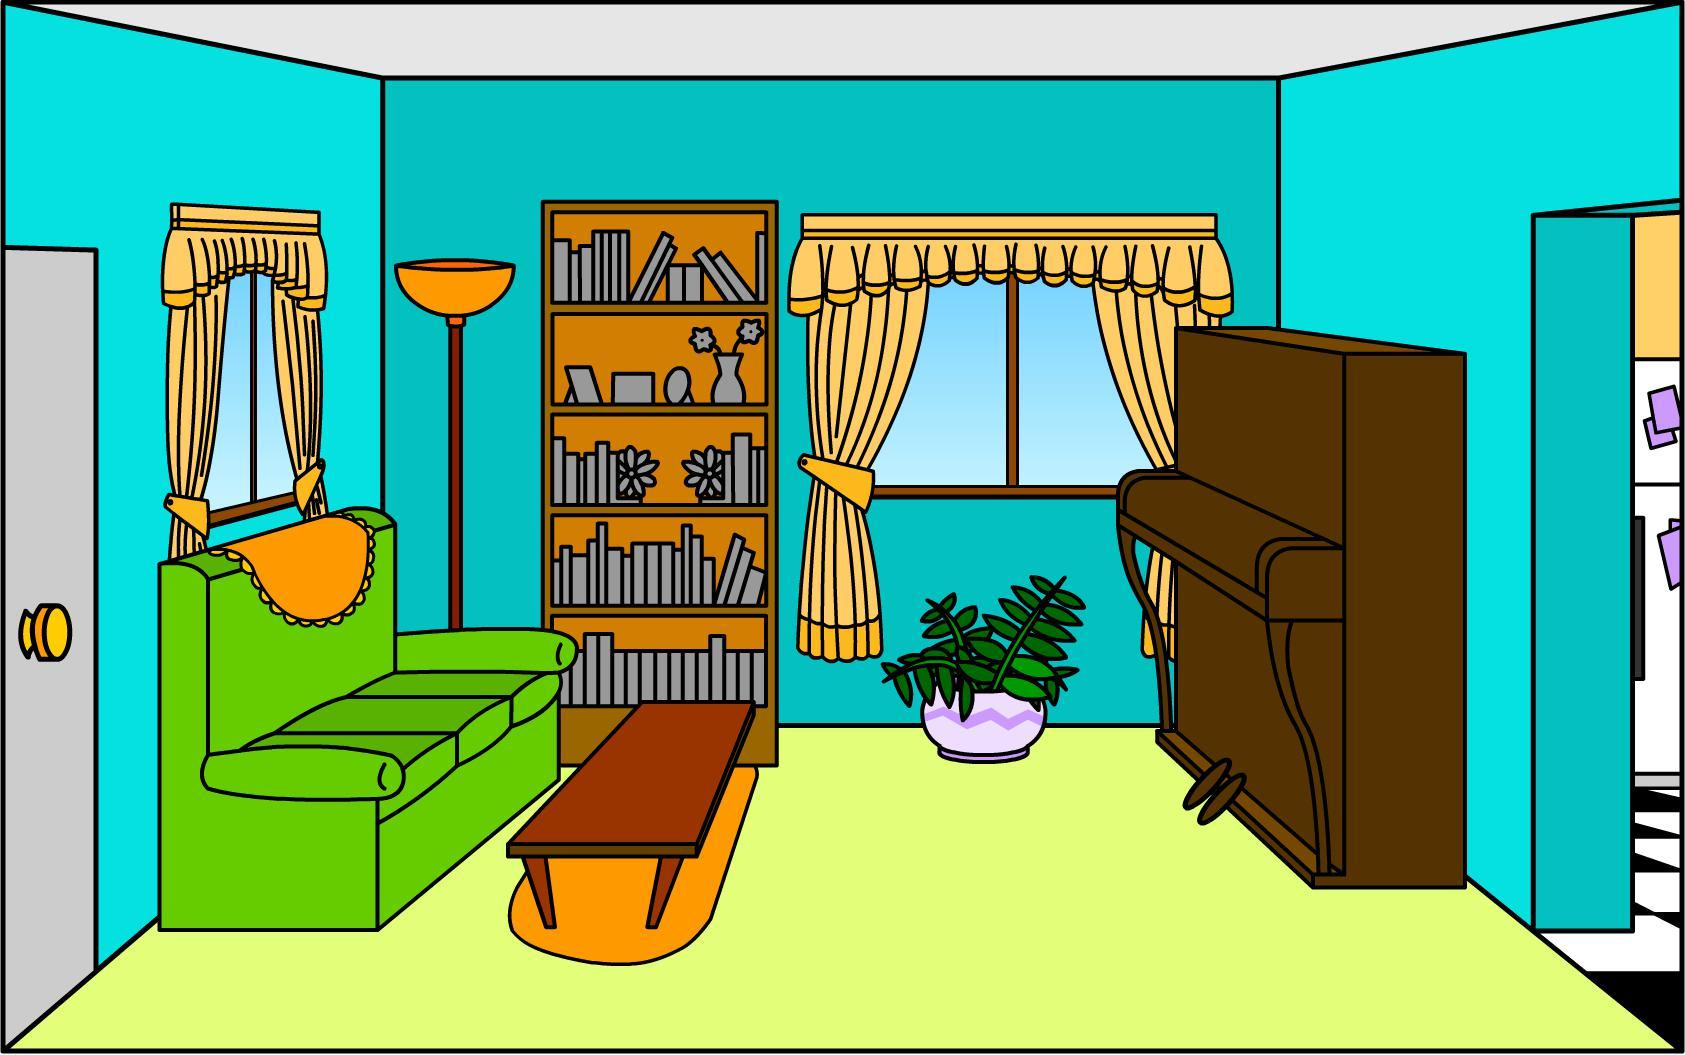diningtable: (513, 700, 775, 931)
pottedplant: (880, 566, 1082, 761)
sofa: (146, 506, 582, 941)
